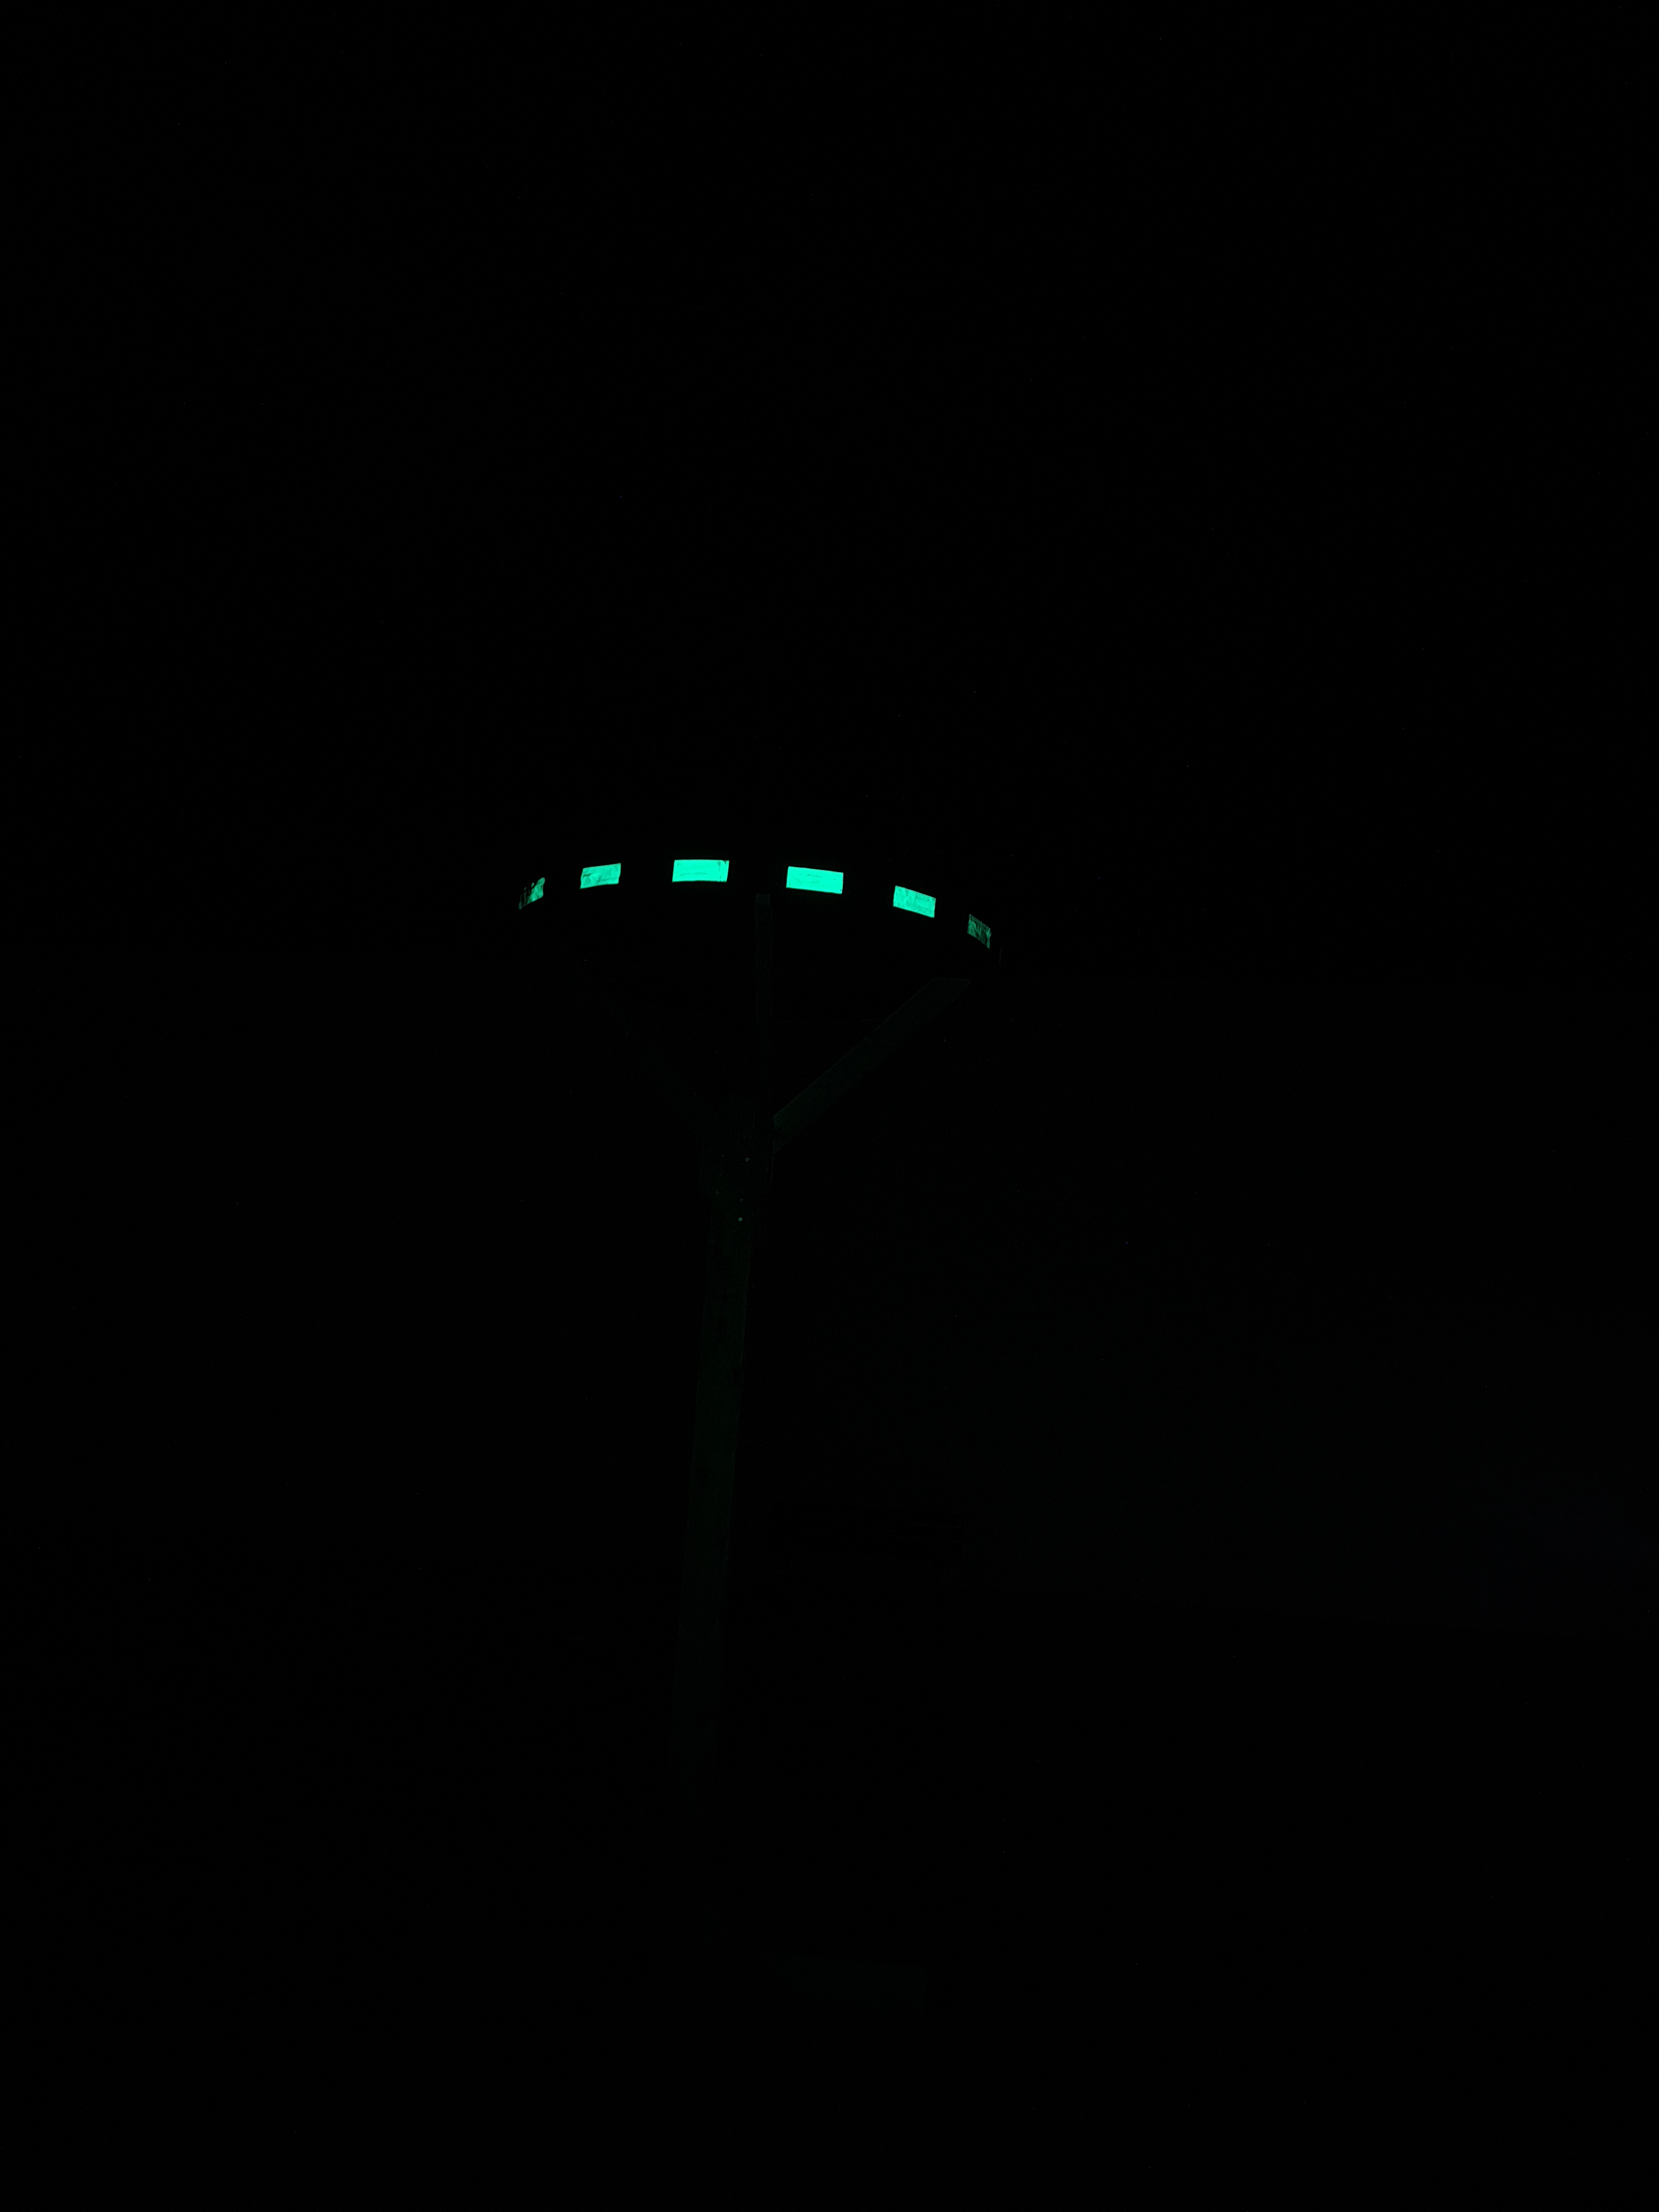hoop: (514, 843, 995, 961)
